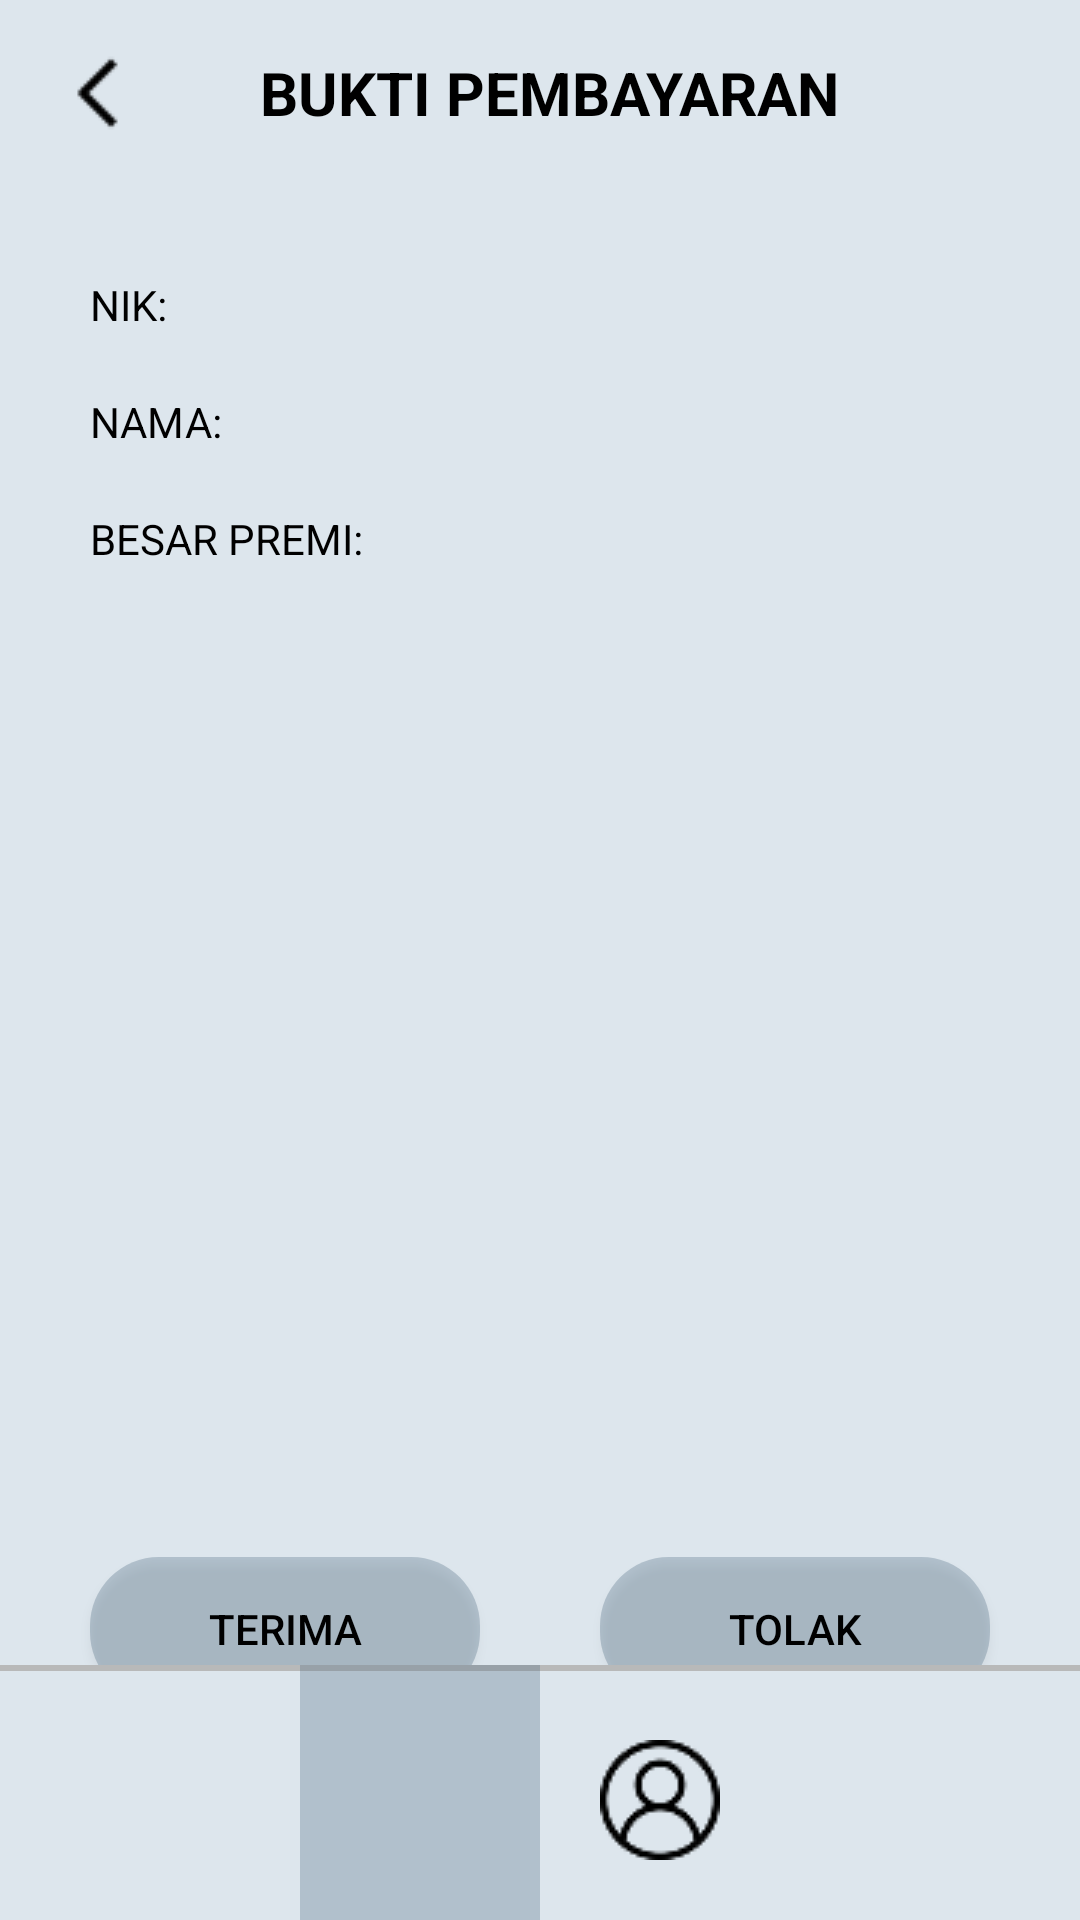

Screen size 1080x1920. Icon name, then its box in pixels as box=[x1, y1, x2, y2]:
back hitam: box=[77, 59, 118, 127]
profile: box=[600, 1740, 720, 1860]
